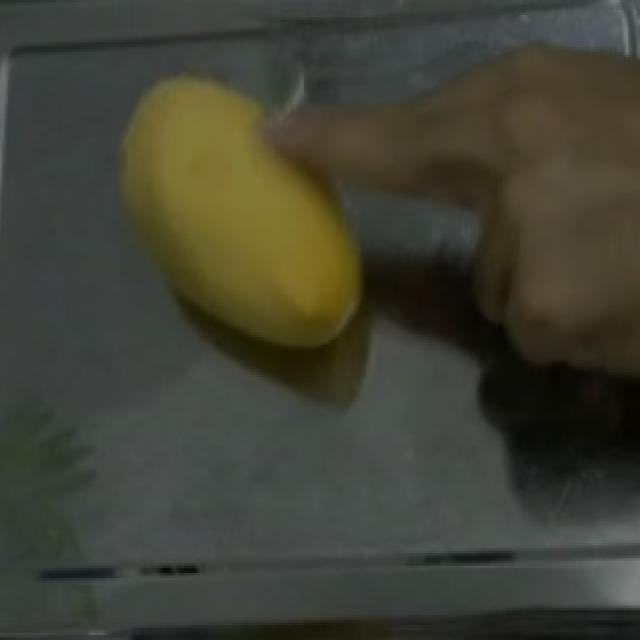fruit: (96, 47, 386, 372), (450, 22, 640, 397)
